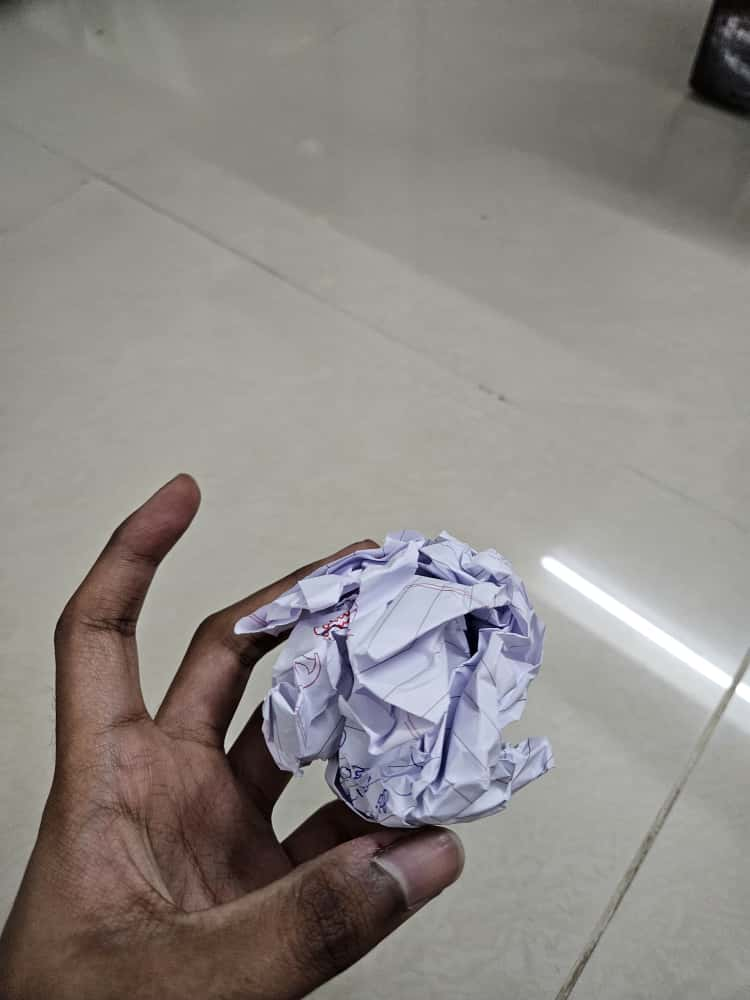dry: (240, 510, 583, 830)
